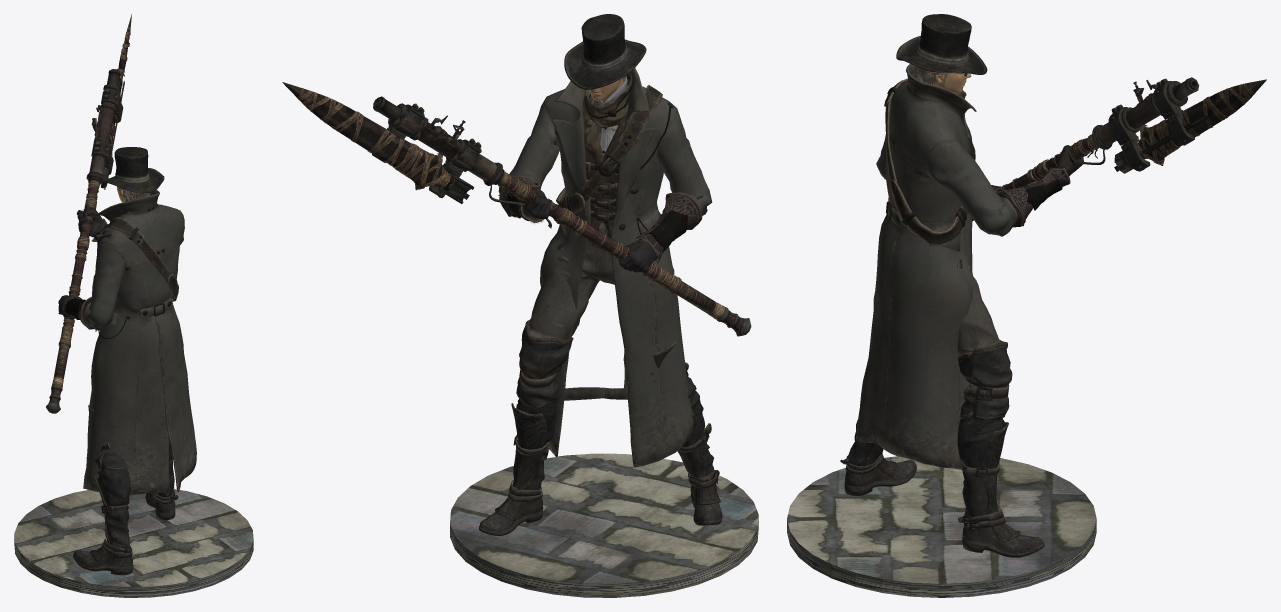
File: rifle-spear-hunter.glb
3 views of the same model, side by side, from view 1: azimuth 30°, elevation 25°; view 2: azimuth 150°, elevation 25°; view 3: azimuth 270°, elevation 25° (orthographic). The views are drawn at different scales.
Parts seen in each view (by area): view 1: 18-BD.obj, 91-Cylinder.obj, 1-WP_A_1040.obj, 72-LG.obj, 30-HD.obj, 70-AM.obj; view 2: 18-BD.obj, 91-Cylinder.obj, 72-LG.obj, 1-WP_A_1040.obj, 70-AM.obj, 30-HD.obj; view 3: 18-BD.obj, 91-Cylinder.obj, 72-LG.obj, 1-WP_A_1040.obj, 30-HD.obj, 70-AM.obj.
Boxes of the visible parts, box(x1,y1,x2,y2) form: 18-BD.obj: box(82, 189, 196, 494); 91-Cylinder.obj: box(14, 489, 253, 597); 1-WP_A_1040.obj: box(46, 14, 131, 413); 72-LG.obj: box(73, 401, 178, 575); 30-HD.obj: box(101, 147, 164, 193); 70-AM.obj: box(58, 208, 108, 329); 18-BD.obj: box(498, 68, 712, 467); 91-Cylinder.obj: box(450, 453, 758, 597); 72-LG.obj: box(479, 227, 722, 535); 1-WP_A_1040.obj: box(282, 82, 751, 336); 70-AM.obj: box(499, 175, 702, 272); 30-HD.obj: box(564, 14, 646, 89); 18-BD.obj: box(856, 63, 1018, 469); 91-Cylinder.obj: box(787, 456, 1096, 597); 72-LG.obj: box(840, 258, 1044, 557); 1-WP_A_1040.obj: box(972, 77, 1266, 221); 30-HD.obj: box(896, 14, 987, 74); 70-AM.obj: box(991, 145, 1083, 227).
Size of the model in its own units: 1.1 by 1.89 by 1.55.
13 materials, 13 textured.
